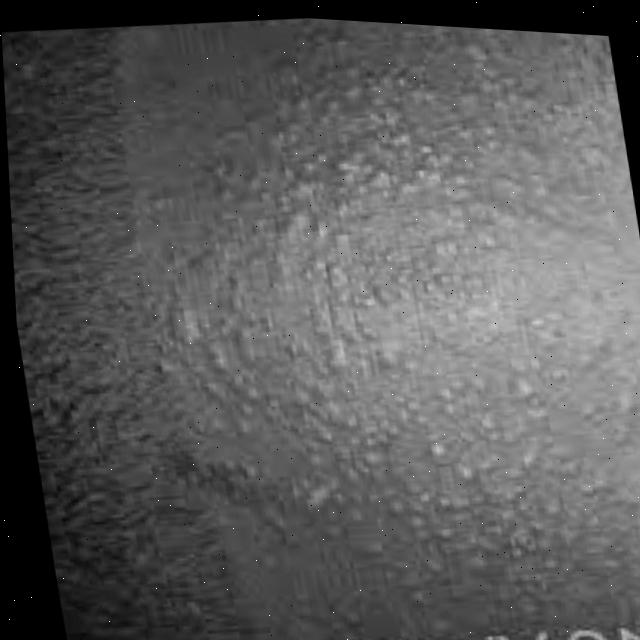Eczema: (127, 16, 640, 629)
